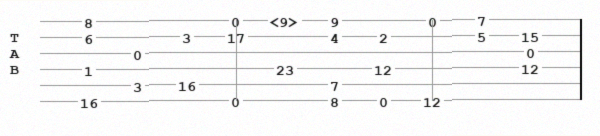0: (133, 46, 146, 59), (231, 94, 244, 107), (231, 14, 244, 27), (379, 94, 392, 107), (428, 14, 441, 27), (526, 46, 539, 59)
1: (84, 62, 97, 75)
12: (374, 62, 396, 75), (423, 94, 445, 107), (521, 62, 543, 75)
15: (521, 30, 543, 43)
16: (80, 94, 102, 107), (178, 78, 200, 91)
17: (227, 30, 249, 43)
2: (379, 30, 392, 43)
23: (276, 62, 298, 75)
3: (133, 78, 146, 91), (182, 30, 195, 43)
4: (330, 30, 343, 43)
5: (477, 30, 490, 43)
6: (84, 30, 97, 43)
7: (330, 78, 343, 91), (477, 14, 490, 27)
8: (84, 14, 97, 27), (330, 94, 343, 107)
9: (330, 14, 343, 27)
harmonic: (270, 14, 303, 27)
